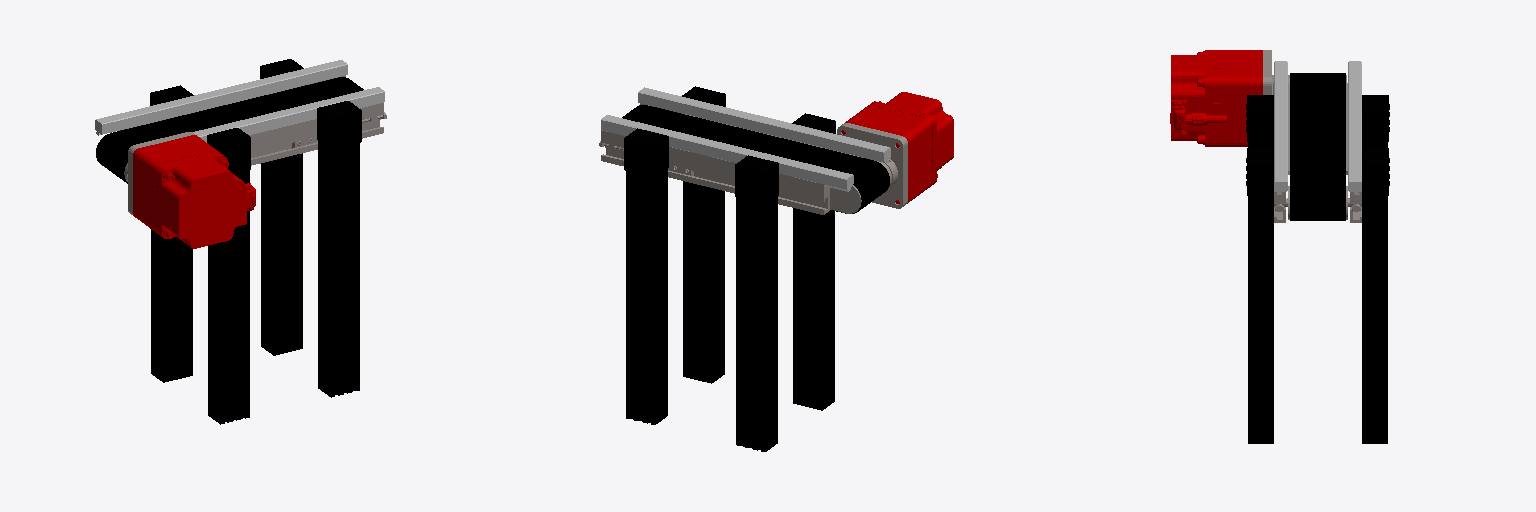
File: Lateral_Conveyor.obj
3 views of the same model, side by side, from view 1: azimuth 30°, elevation 25°; view 2: azimuth 150°, elevation 25°; view 3: azimuth 270°, elevation 25° (orthographic).
Visible parts, largest first — view 1: Lateral_Conveyor_Main_Support_Lateral_Conveyor_Main_Support_Late, Lateral_Conveyor_1_Lateral_Conveyor_5, Lateral_Conveyor_Lateral_Conveyor, Lateral_Conveyor_3_Lateral_Conveyor_7, Lateral_Conveyor_Lateral_Conveyor_2_Lateral_Conveyor_4_Lateral_C; view 2: Lateral_Conveyor_Main_Support_Lateral_Conveyor_Main_Support_Late, Lateral_Conveyor_Lateral_Conveyor, Lateral_Conveyor_Lateral_Conveyor_2_Lateral_Conveyor_4_Lateral_C, Lateral_Conveyor_3_Lateral_Conveyor_7, Lateral_Conveyor_1_Lateral_Conveyor_5; view 3: Lateral_Conveyor_Main_Support_Lateral_Conveyor_Main_Support_Late, Lateral_Conveyor_3_Lateral_Conveyor_7, Lateral_Conveyor_1_Lateral_Conveyor_5, Lateral_Conveyor_Lateral_Conveyor, Lateral_Conveyor_Lateral_Conveyor_2_Lateral_Conveyor_4_Lateral_C.
Boxes of the visible parts, x1,y1,x2,y2 form: Lateral_Conveyor_Main_Support_Lateral_Conveyor_Main_Support_Late: [150, 59, 361, 424]; Lateral_Conveyor_1_Lateral_Conveyor_5: [133, 135, 255, 248]; Lateral_Conveyor_Lateral_Conveyor: [95, 60, 384, 142]; Lateral_Conveyor_3_Lateral_Conveyor_7: [96, 77, 363, 183]; Lateral_Conveyor_Lateral_Conveyor_2_Lateral_Conveyor_4_Lateral_C: [120, 75, 386, 214]; Lateral_Conveyor_Main_Support_Lateral_Conveyor_Main_Support_Late: [624, 86, 835, 451]; Lateral_Conveyor_Lateral_Conveyor: [601, 87, 890, 191]; Lateral_Conveyor_Lateral_Conveyor_2_Lateral_Conveyor_4_Lateral_C: [599, 103, 907, 214]; Lateral_Conveyor_3_Lateral_Conveyor_7: [622, 105, 889, 213]; Lateral_Conveyor_1_Lateral_Conveyor_5: [841, 92, 953, 203]; Lateral_Conveyor_Main_Support_Lateral_Conveyor_Main_Support_Late: [1246, 95, 1389, 443]; Lateral_Conveyor_3_Lateral_Conveyor_7: [1290, 73, 1345, 220]; Lateral_Conveyor_1_Lateral_Conveyor_5: [1170, 50, 1262, 146]; Lateral_Conveyor_Lateral_Conveyor: [1274, 61, 1361, 194]; Lateral_Conveyor_Lateral_Conveyor_2_Lateral_Conveyor_4_Lateral_C: [1263, 50, 1361, 222].
Size of the model in its own units: 358 by 375 by 260.